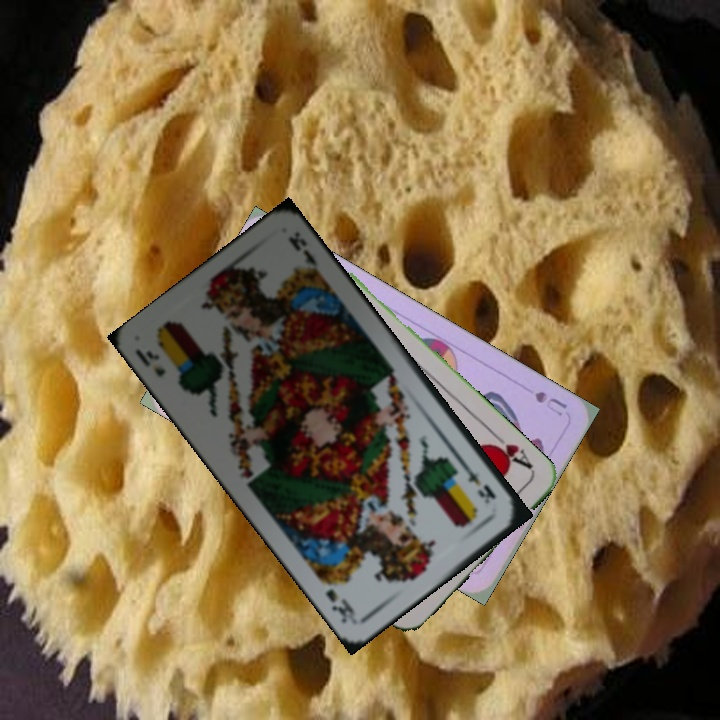EK: (459, 459, 499, 507), (131, 345, 168, 380)
HA: (483, 428, 536, 473)
SU: (530, 387, 570, 419)
